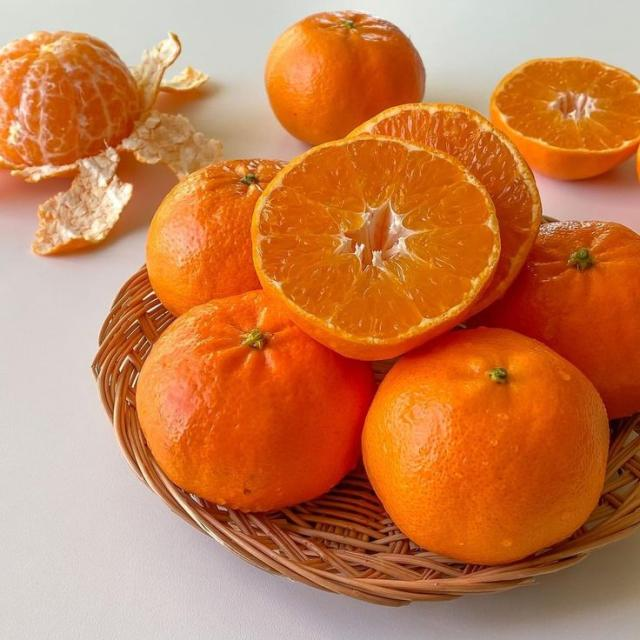orange: (363, 328, 608, 564), (252, 135, 499, 359), (136, 292, 374, 511), (351, 104, 541, 311), (473, 222, 639, 419), (147, 160, 284, 315), (266, 12, 425, 144), (0, 32, 140, 167), (491, 58, 639, 179), (636, 148, 639, 180)
